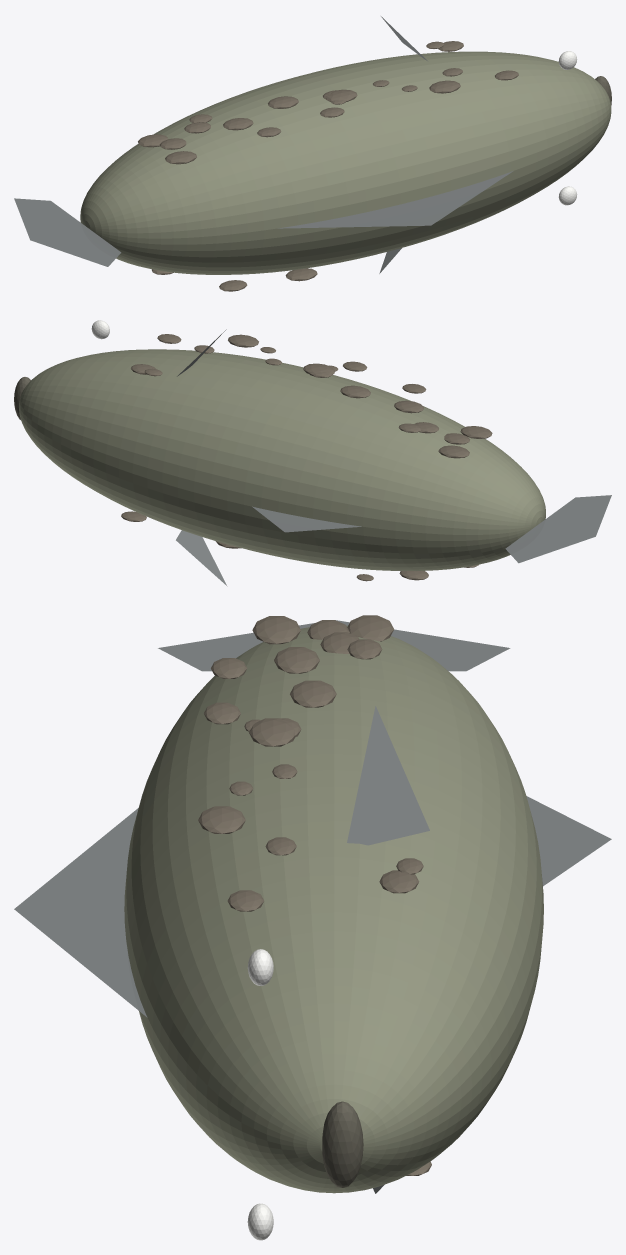
File: tautog_blackfish_approx.glb
The picture shows the model from 3 angles, top to bottom: view 1: azimuth 30°, elevation 25°; view 2: azimuth 150°, elevation 25°; view 3: azimuth 270°, elevation 25°; orthographic projection. The views are drawn at different scales.
Visible parts, largest first — view 1: tautog_stout_body, rounded_tail, long_dorsal_fin; view 2: tautog_stout_body, rounded_tail, anal_fin, pectoral_fin_right; view 3: tautog_stout_body, long_dorsal_fin, pectoral_fin_left, rounded_tail, anal_fin, tautog_thick_lips, tautog_mottle_7, tautog_mottle_22, tautog_mottle_29, tautog_mottle_14, tautog_mottle_15, tautog_mottle_5.
Part boxes in pixels (x1,y1,x2,y2): tautog_stout_body: (80,51,611,274); rounded_tail: (14,198,121,266); long_dorsal_fin: (278,171,513,228); tautog_stout_body: (19,349,545,570); rounded_tail: (505,495,611,563); anal_fin: (252,506,361,532); pectoral_fin_right: (176,530,227,586); tautog_stout_body: (124,625,543,1193); long_dorsal_fin: (14,808,147,1017); pectoral_fin_left: (347,706,429,845); rounded_tail: (158,620,510,671); anal_fin: (526,796,611,886); tautog_thick_lips: (322,1101,363,1187); tautog_mottle_7: (252,616,300,644); tautog_mottle_22: (249,718,295,746); tautog_mottle_29: (198,806,245,833); tautog_mottle_14: (290,680,336,707); tautog_mottle_15: (274,647,319,673); tautog_mottle_5: (347,615,394,641).
Size of the model in its own units: 2.29 by 0.9771 by 1.08.
